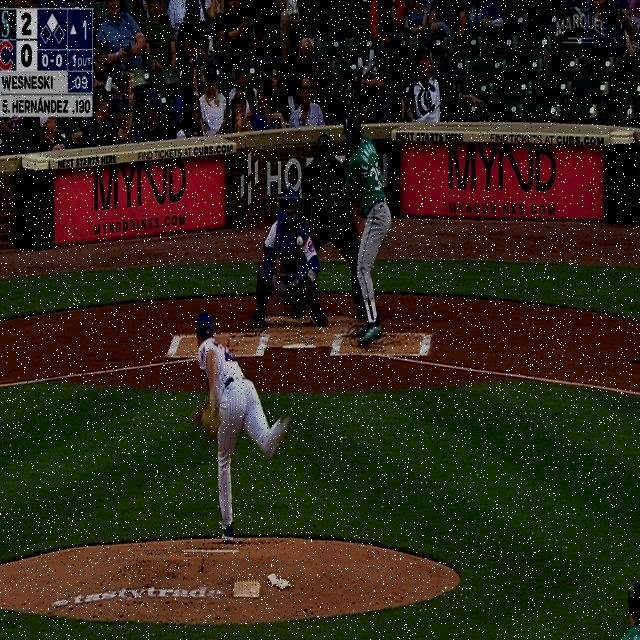baseball: (296, 235, 303, 247)
